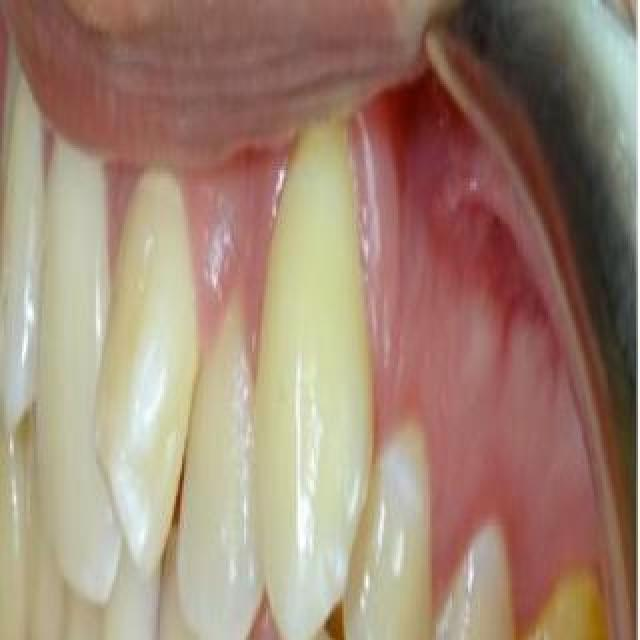maligned: (95, 188, 211, 558), (164, 322, 268, 640)
stains: (512, 584, 628, 640)
